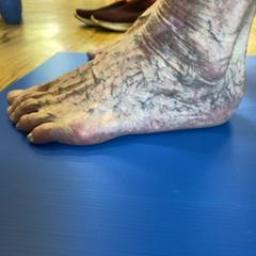Lateral View -Left Foot-: (1, 5, 251, 159)
